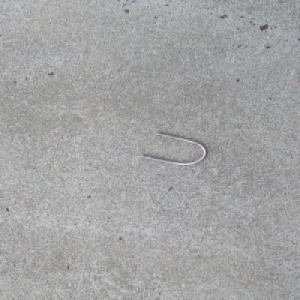ClampPart: (139, 131, 209, 166)
